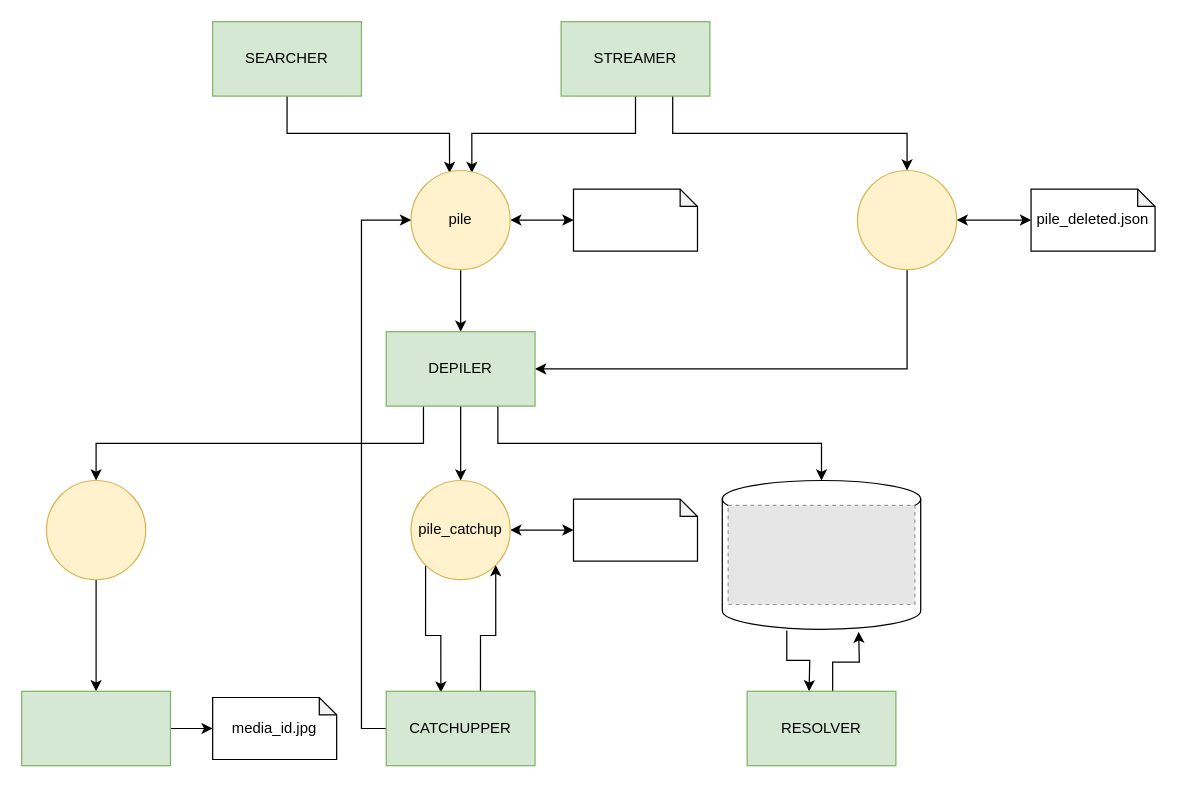
Image size: 1177x787. Some labels were removed from this diagram. Grey dashed boxes stand in for pictures. The centre of each missing label's shape, as x and y in pixels:
DOWNLOADER: the point at 95,728
pile_catchup.json: the point at 635,529
pile_delete: the point at 906,219
pile_main.json: the point at 635,219
pile_medias: the point at 95,529
